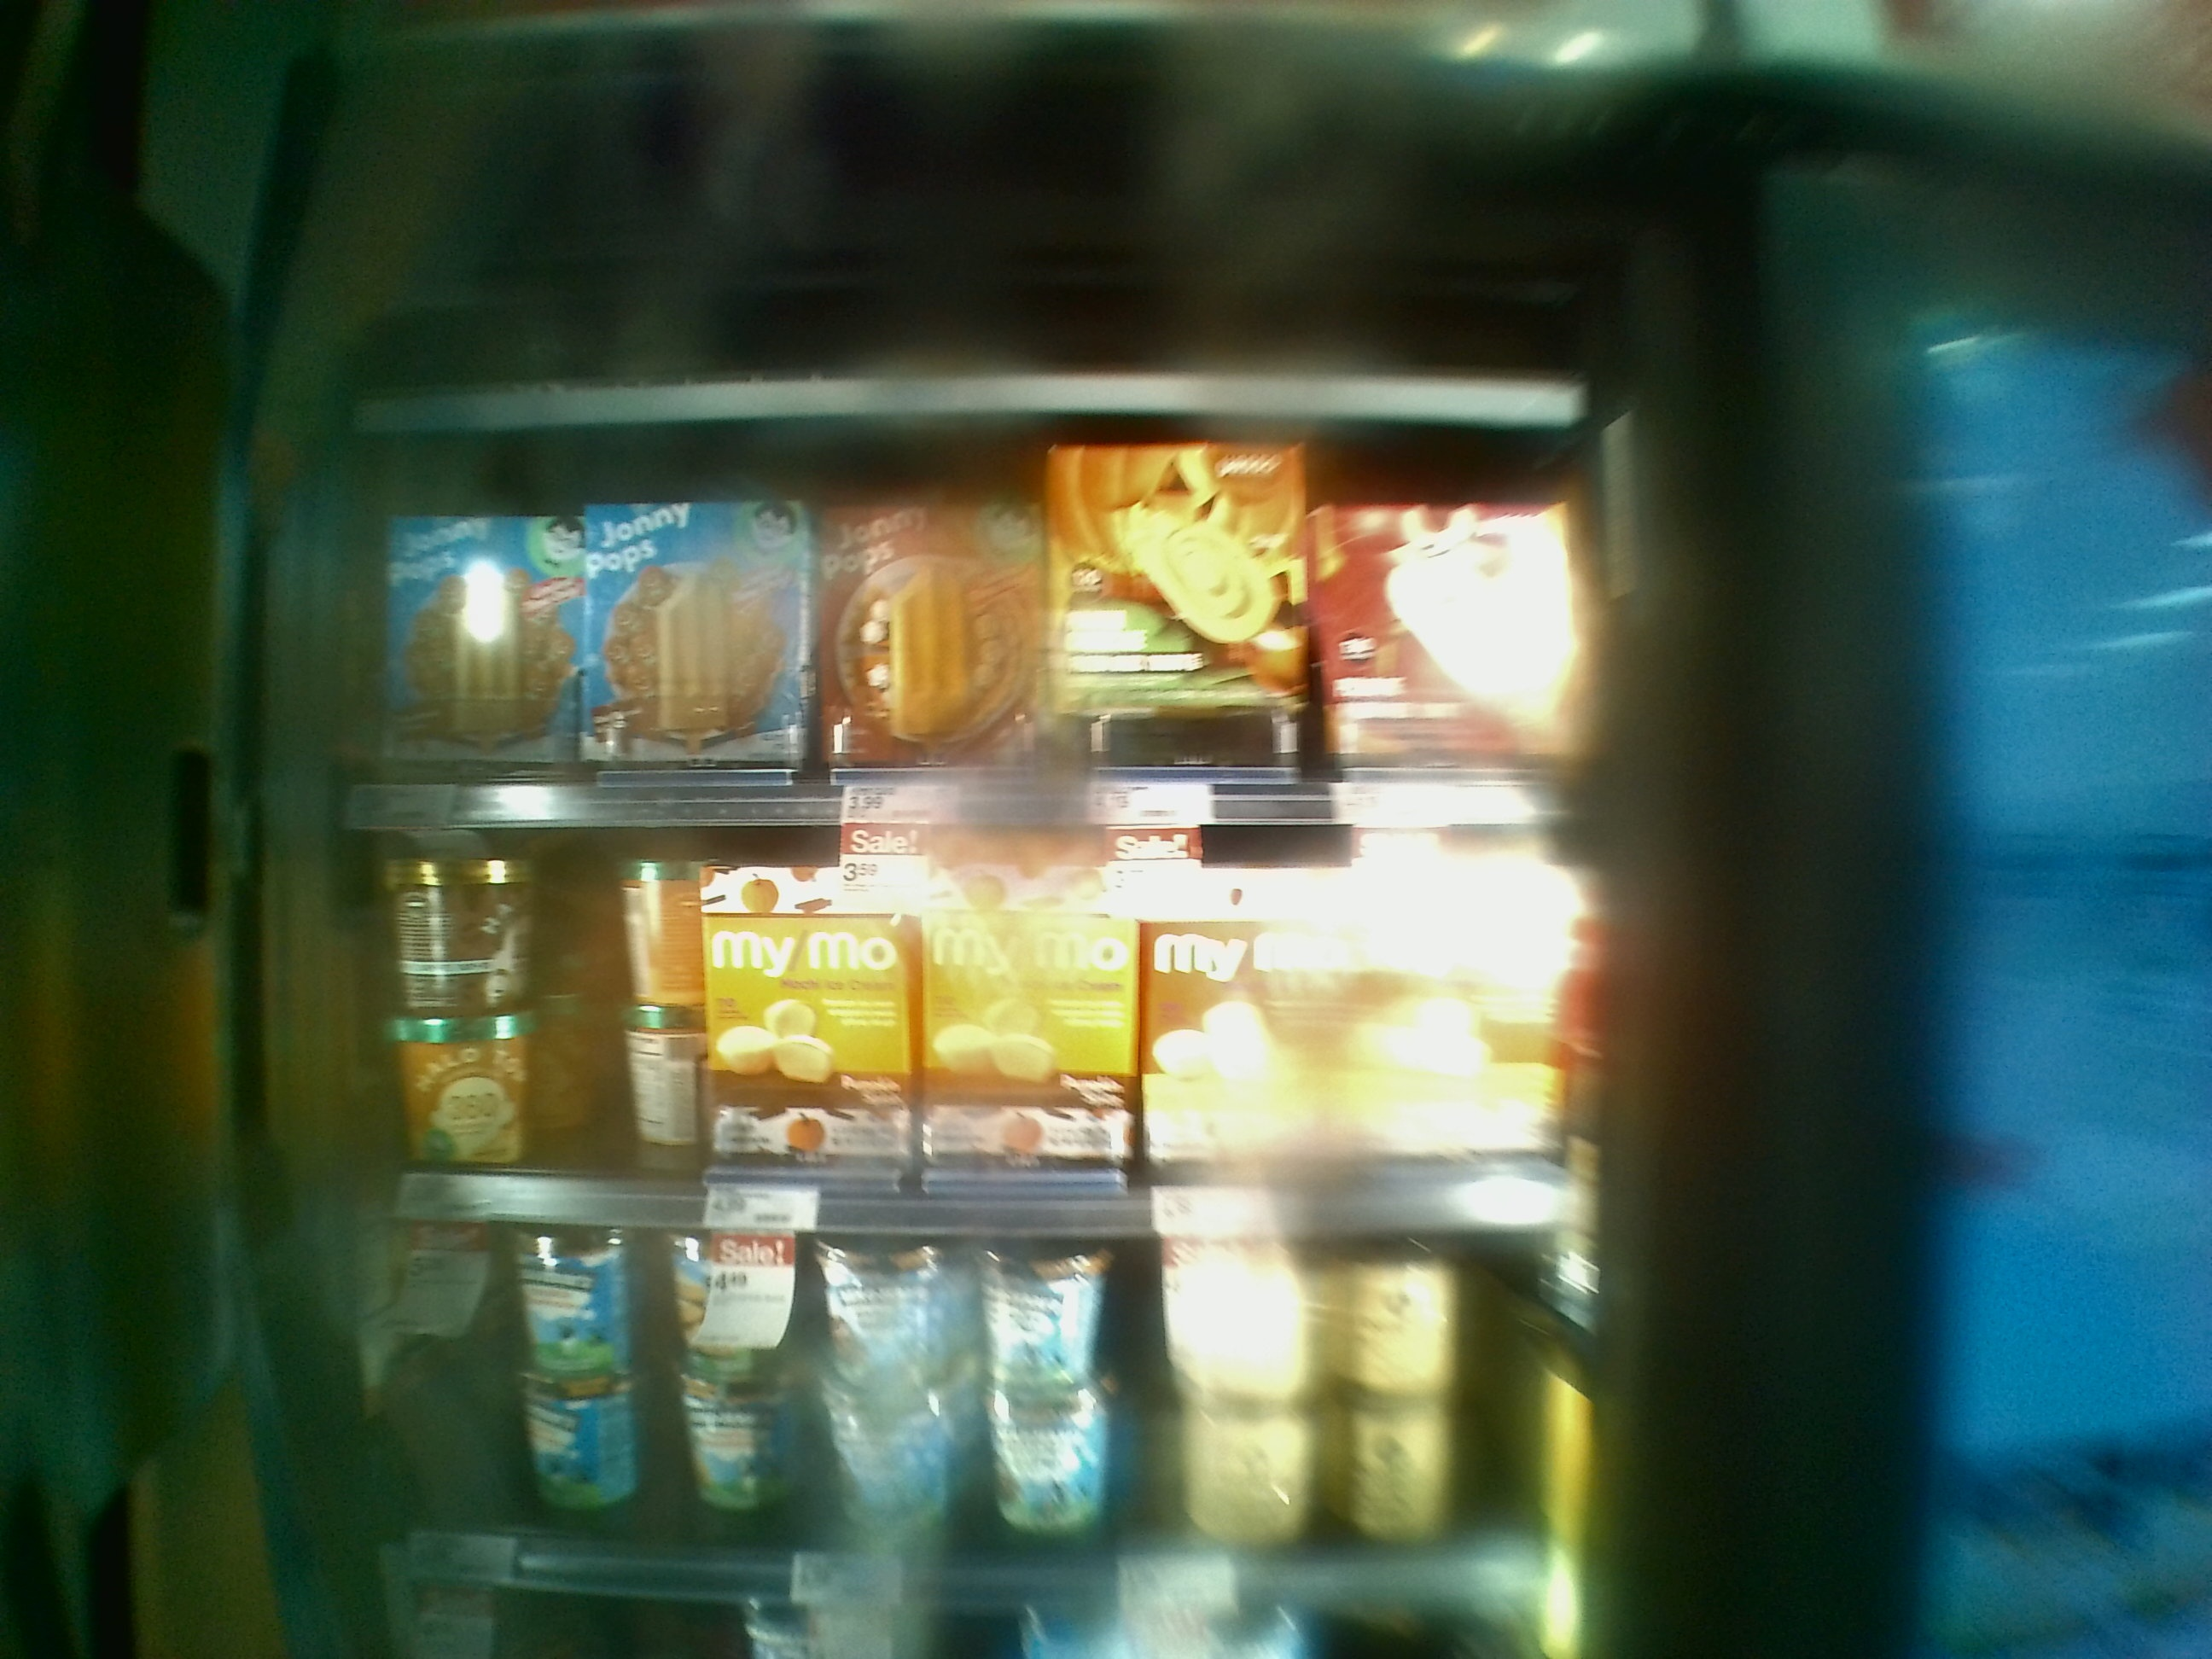shelf: (329, 788, 1615, 1234), (327, 1169, 1571, 1607), (341, 429, 1592, 835)
